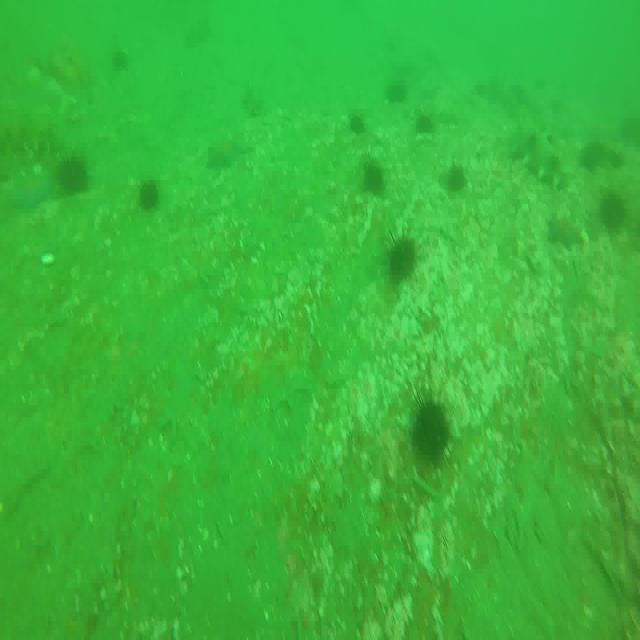echinus: (417, 400, 452, 470), (388, 230, 418, 284), (601, 188, 629, 233), (56, 160, 93, 193), (364, 159, 386, 200), (583, 142, 608, 171), (446, 162, 469, 192), (137, 182, 160, 212), (346, 110, 365, 138), (416, 109, 435, 136), (388, 84, 406, 112)
holothurian: (508, 121, 571, 182), (240, 87, 266, 117)
starfish: (543, 213, 584, 246), (16, 172, 56, 204), (208, 141, 253, 169)
